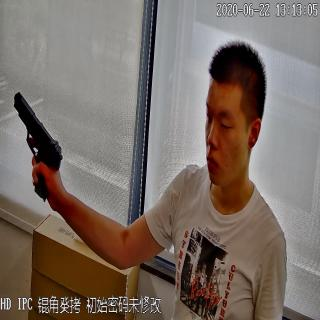gun: (10, 82, 62, 205)
